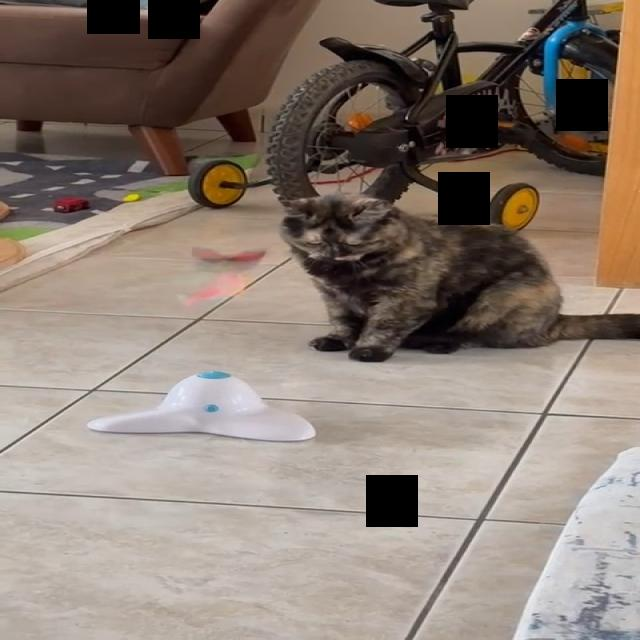authorized: (277, 191, 639, 362)
